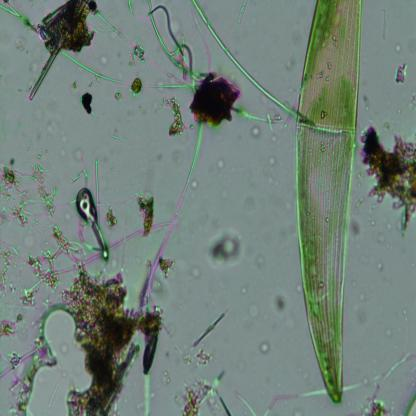Air bubble: (24, 307, 90, 415), (404, 391, 416, 416)
Background material: (69, 271, 145, 416), (26, 0, 98, 101), (357, 122, 416, 237), (21, 229, 90, 304), (0, 166, 61, 233), (175, 369, 232, 416), (144, 296, 166, 414), (0, 338, 48, 379), (206, 229, 247, 269), (193, 309, 229, 347), (157, 95, 188, 139), (41, 116, 68, 157), (0, 249, 18, 304), (8, 377, 32, 416), (356, 394, 393, 416), (76, 91, 100, 121), (0, 310, 24, 338), (70, 166, 91, 192), (181, 348, 210, 366), (271, 290, 287, 316), (160, 254, 175, 280), (351, 300, 367, 322), (394, 60, 408, 84), (186, 264, 204, 282), (70, 142, 85, 161), (380, 7, 388, 42), (237, 0, 249, 23), (33, 145, 50, 160), (130, 78, 144, 96), (406, 91, 416, 112), (13, 35, 27, 50), (374, 228, 386, 245), (248, 124, 262, 138), (255, 255, 267, 271), (112, 90, 124, 105), (351, 221, 361, 238), (258, 340, 270, 354), (248, 304, 260, 318), (242, 195, 254, 208), (235, 360, 246, 374), (363, 92, 370, 111), (268, 176, 279, 188), (408, 38, 416, 54), (220, 188, 230, 200), (217, 157, 226, 170), (190, 178, 200, 189), (355, 197, 365, 208), (394, 42, 403, 54), (267, 155, 276, 167), (384, 325, 392, 338), (366, 216, 376, 226), (283, 200, 292, 211), (163, 369, 170, 383), (269, 132, 277, 144), (368, 203, 377, 213), (376, 261, 384, 272), (295, 283, 303, 293), (303, 370, 309, 382), (384, 221, 391, 231), (241, 286, 247, 297), (385, 243, 393, 251), (383, 120, 391, 128), (359, 292, 365, 300), (396, 108, 402, 116), (356, 172, 364, 178), (356, 180, 362, 187), (73, 80, 77, 90), (138, 103, 142, 110)
Glass filter fibre: (192, 0, 295, 117), (147, 123, 205, 293), (59, 50, 191, 90), (146, 0, 196, 81), (76, 186, 111, 262), (107, 220, 170, 252), (374, 351, 414, 398), (262, 390, 327, 416), (0, 1, 35, 34), (232, 106, 278, 130), (96, 11, 128, 44), (342, 372, 384, 393), (1, 108, 23, 142), (127, 1, 141, 47), (399, 308, 410, 359), (234, 393, 257, 416), (92, 161, 100, 211), (48, 382, 60, 409), (85, 251, 106, 265), (107, 132, 126, 144)
Natural material: (292, 0, 364, 404)
